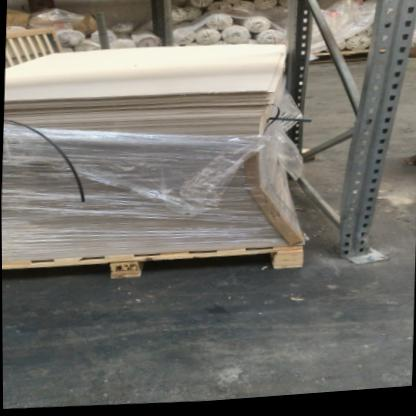vertical_damage: (328, 218, 400, 274)
